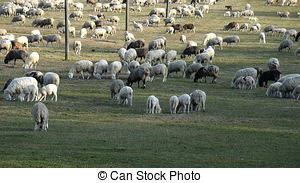sheep: (1, 78, 37, 101), (31, 99, 53, 136), (225, 64, 252, 89), (137, 89, 162, 114), (191, 88, 212, 112), (147, 63, 175, 81), (179, 43, 205, 62), (3, 46, 25, 68), (222, 21, 251, 37), (164, 92, 184, 115), (114, 81, 133, 105), (66, 57, 91, 75), (23, 49, 42, 72), (260, 70, 283, 89), (278, 36, 297, 55), (124, 38, 146, 54), (173, 91, 189, 112), (67, 8, 88, 24), (152, 38, 174, 53), (206, 32, 224, 48), (92, 58, 107, 77), (226, 34, 245, 49), (285, 77, 300, 96), (149, 7, 171, 19), (166, 59, 181, 75), (28, 33, 46, 46), (176, 5, 194, 18), (122, 60, 143, 71), (41, 83, 55, 99), (128, 21, 148, 32), (265, 24, 283, 36), (110, 59, 121, 78), (108, 15, 127, 26), (90, 25, 105, 38), (15, 34, 26, 51), (15, 10, 28, 24), (198, 8, 214, 19), (48, 34, 65, 44), (73, 40, 83, 57), (78, 27, 91, 40), (110, 75, 122, 89), (74, 2, 90, 12), (241, 10, 255, 21), (91, 1, 105, 12), (36, 7, 48, 19), (98, 23, 112, 33), (107, 3, 122, 12), (41, 18, 53, 29), (178, 33, 190, 44), (84, 21, 97, 31), (265, 58, 277, 68), (122, 28, 133, 37), (28, 7, 36, 19), (92, 13, 103, 21)
